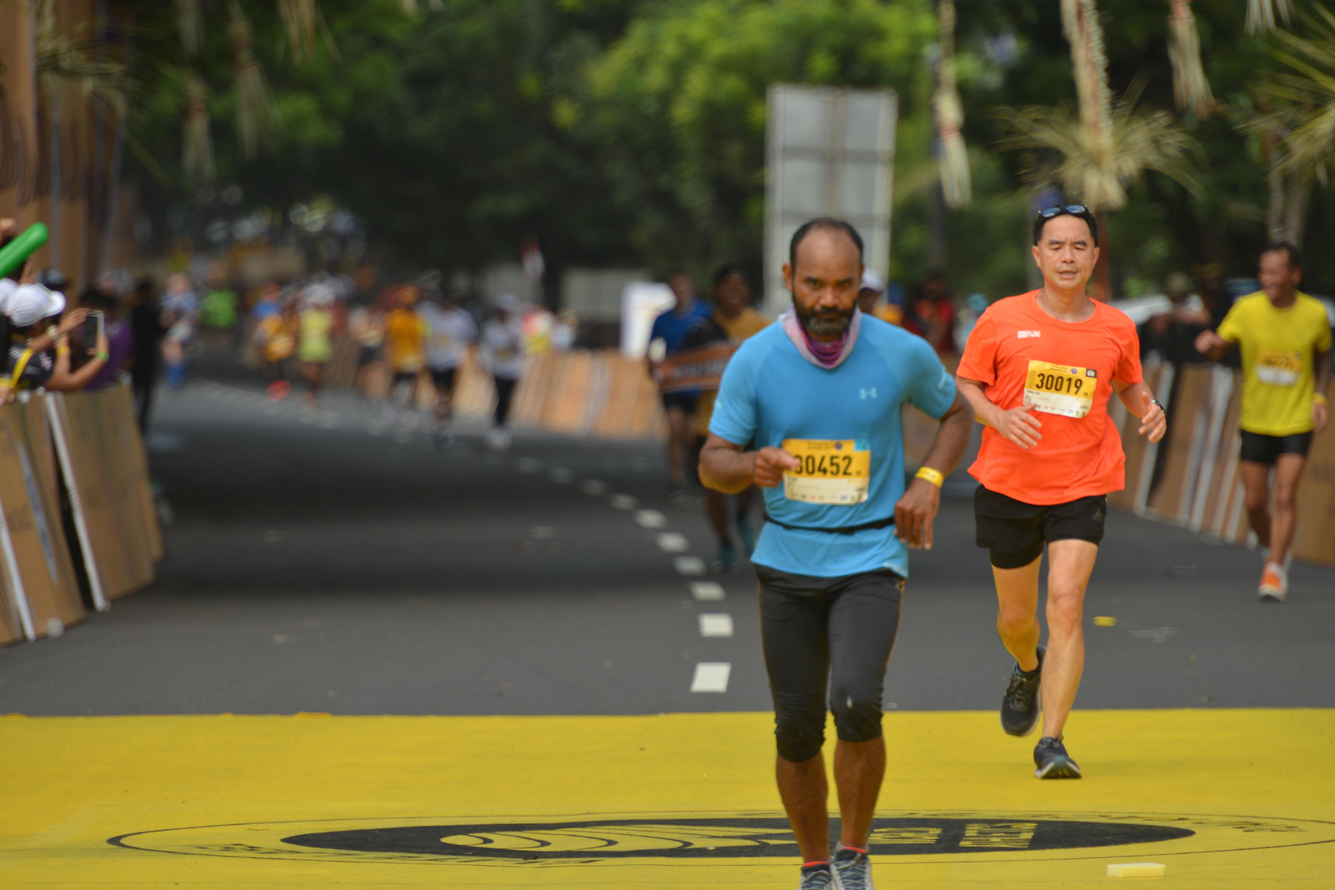bib: (781, 437, 871, 504), (1025, 356, 1096, 423), (1255, 353, 1299, 387)
